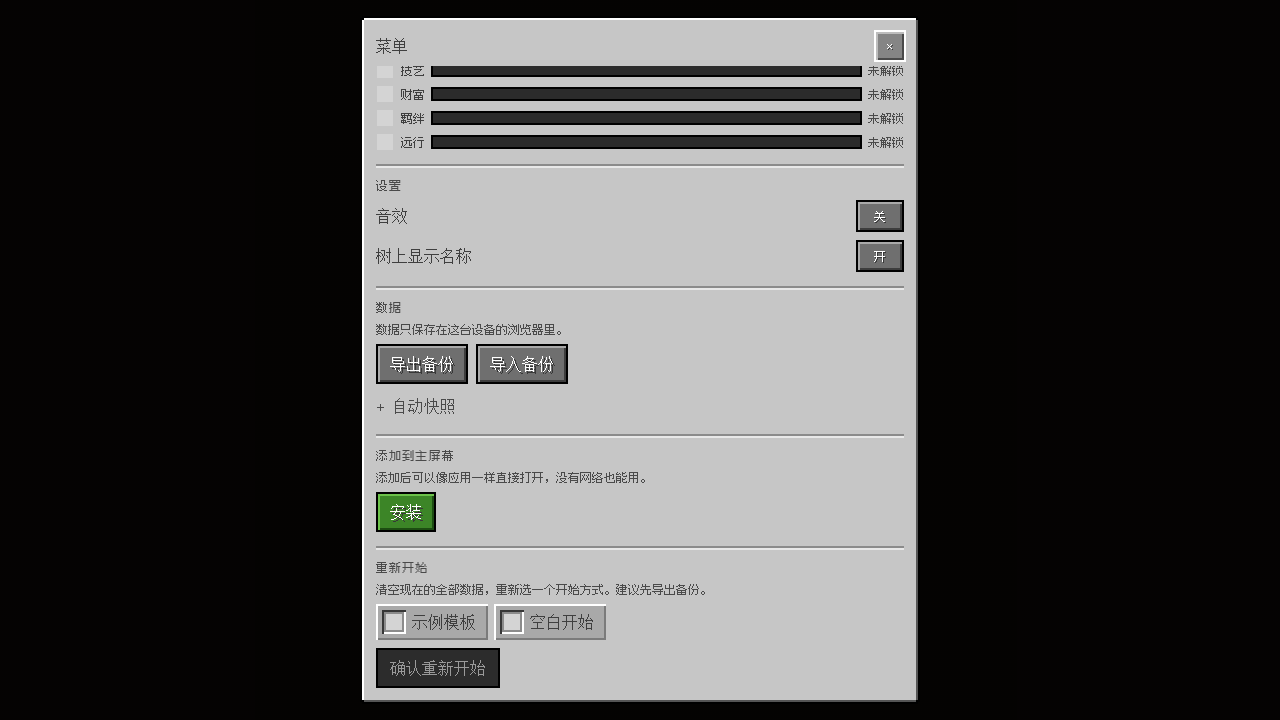
Test: 添加到主屏幕 › offers 安装 when the browser captured an install prompt
(page scrolled)
Step 1. Click the button "安装" → coordinates (406, 512), box left=376, top=492, right=436, bottom=532
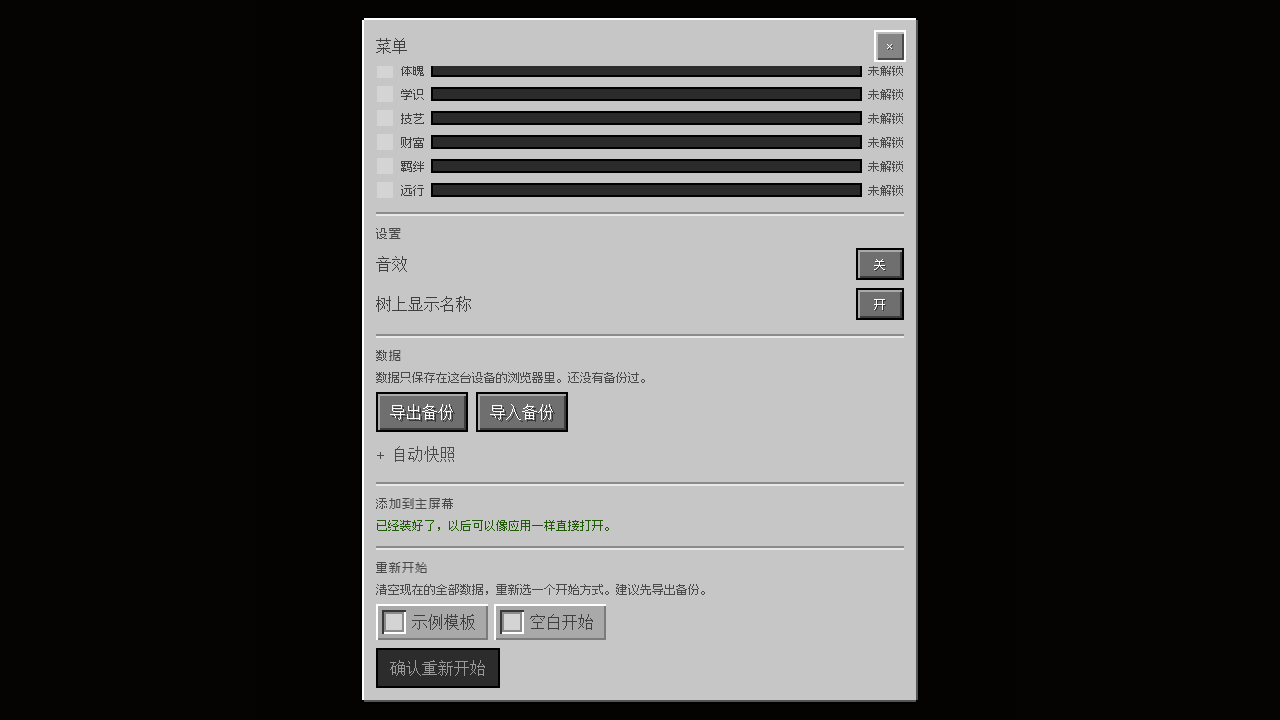
Expected: the element "添加到主屏幕" shows "已经装好了，以后可以像应用一样直接打开。", left=376, top=516, right=616, bottom=534
